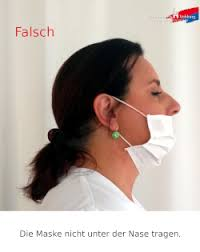mask_weared_incorrect: (133, 77, 184, 175)
